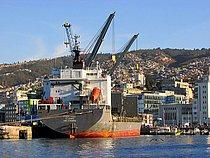Ship: (32, 9, 152, 141)
